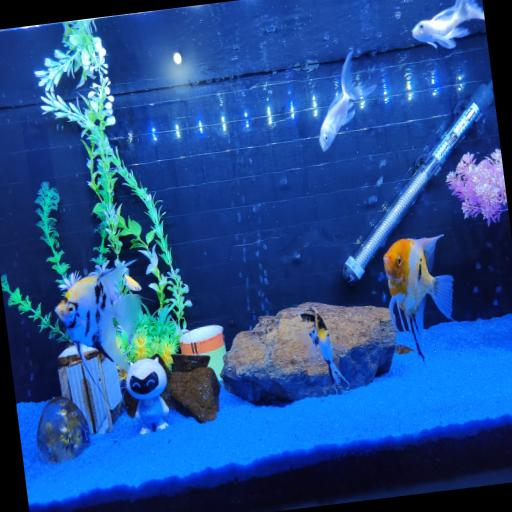Fish: (55, 266, 141, 370), (384, 235, 453, 360), (320, 51, 375, 151), (298, 307, 349, 392), (413, 0, 484, 48)
